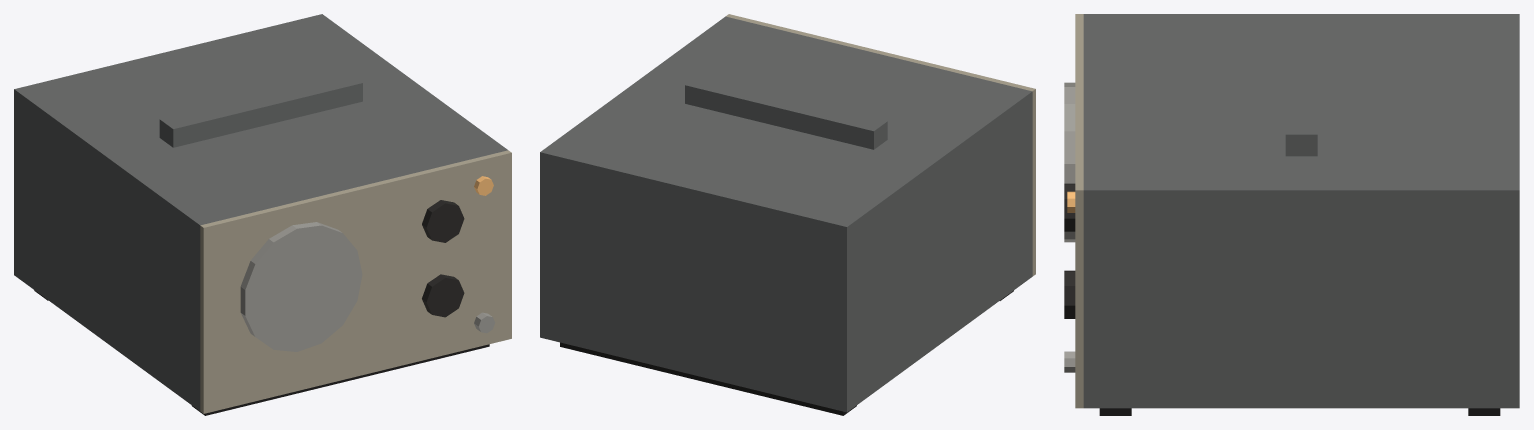
The model's file is signal-generator.glb.
3 views of the same model, side by side, from view 1: azimuth 30°, elevation 25°; view 2: azimuth 150°, elevation 25°; view 3: azimuth 270°, elevation 25° (orthographic). The views are drawn at different scales.
Visible parts, largest first — view 1: metal, plastic-light, brushed, plastic-dark, rubber; view 2: metal, plastic-light, rubber; view 3: metal, plastic-light, brushed, plastic-dark, rubber.
Boxes of the visible parts, x1,y1,x2,y2 form: metal: (14,14,507,410); plastic-light: (200,150,511,413); brushed: (240,222,495,351); plastic-dark: (422,200,464,317); rubber: (34,290,489,415); metal: (540,16,1032,412); plastic-light: (726,14,1035,276); rubber: (560,290,1013,415); metal: (1083,14,1519,408); plastic-light: (1075,14,1083,408); brushed: (1064,82,1075,372); plastic-dark: (1064,183,1075,318); rubber: (1099,408,1500,415).
Bounding box in the file's own units: 0.26 × 0.175 × 0.284.
